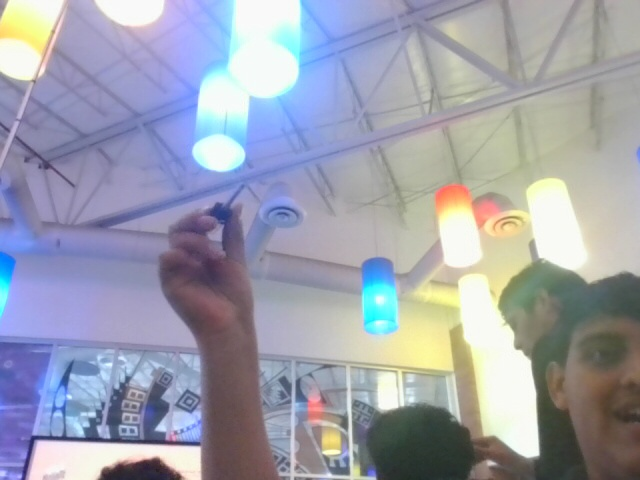destornillador: (208, 183, 245, 225)
